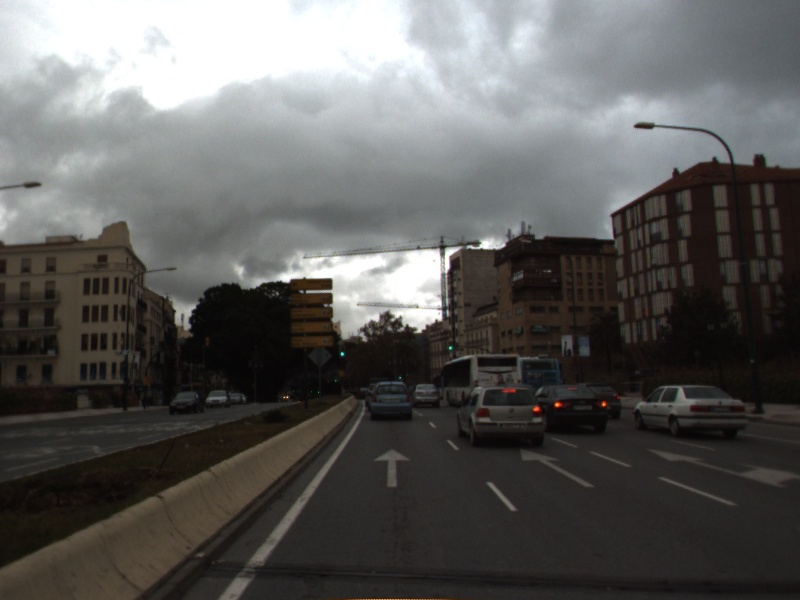STRAIGHT: (519, 446, 598, 489), (371, 447, 414, 489)
STRAIGHT_RIGHT: (643, 446, 800, 490)
